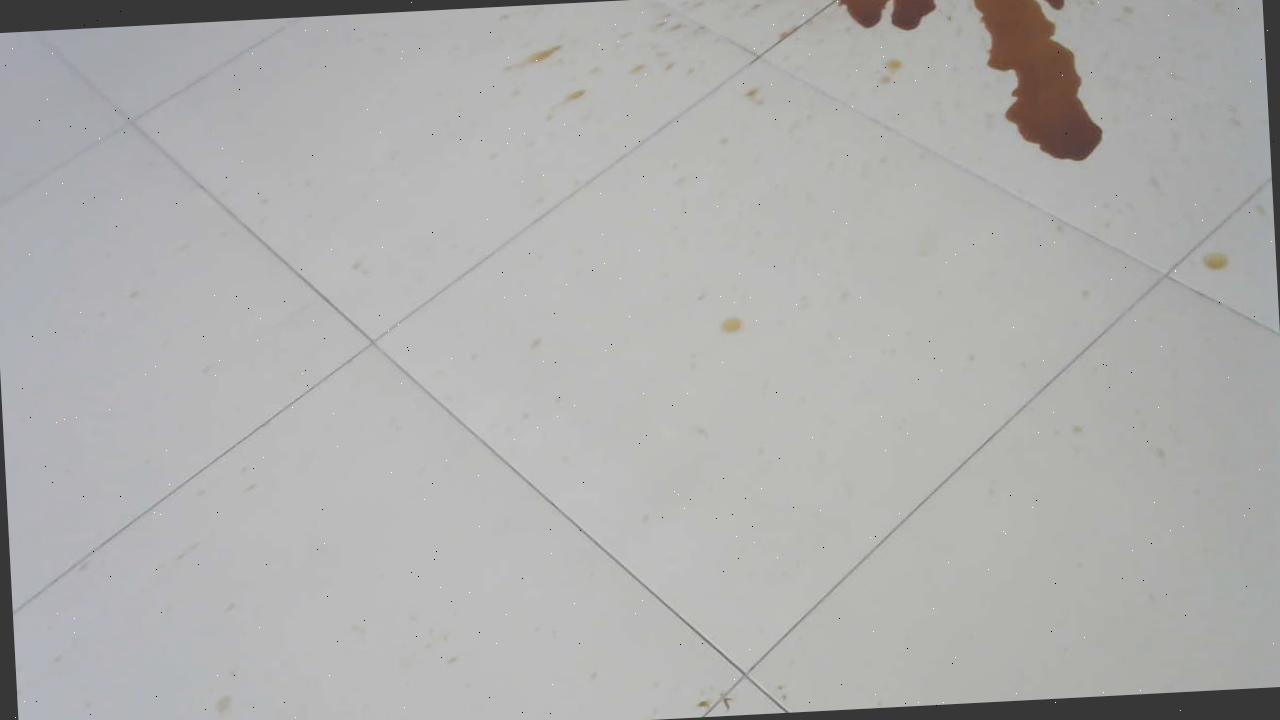dirty_floor: (824, 0, 1119, 183)
